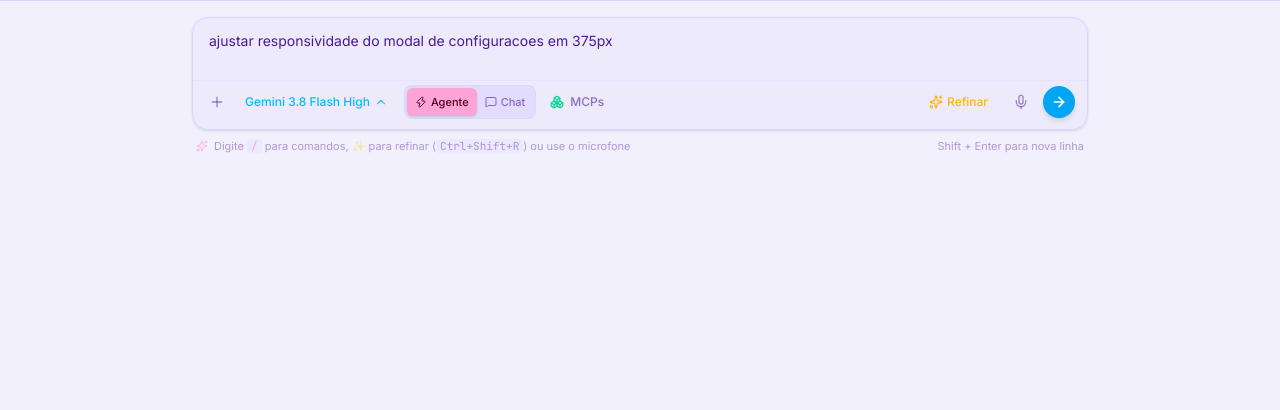
ChatInput Component - Prompt Refiner Sob Demanda (Issue #103) › deve suportar atalho Ctrl+Shift+R, Gerar de novo apenas por clique e Descartar com Esc
The width and height of the screenshot is (1280, 410).
Press R in the text box with test id "chat-textarea", box [193,18,1087,80]
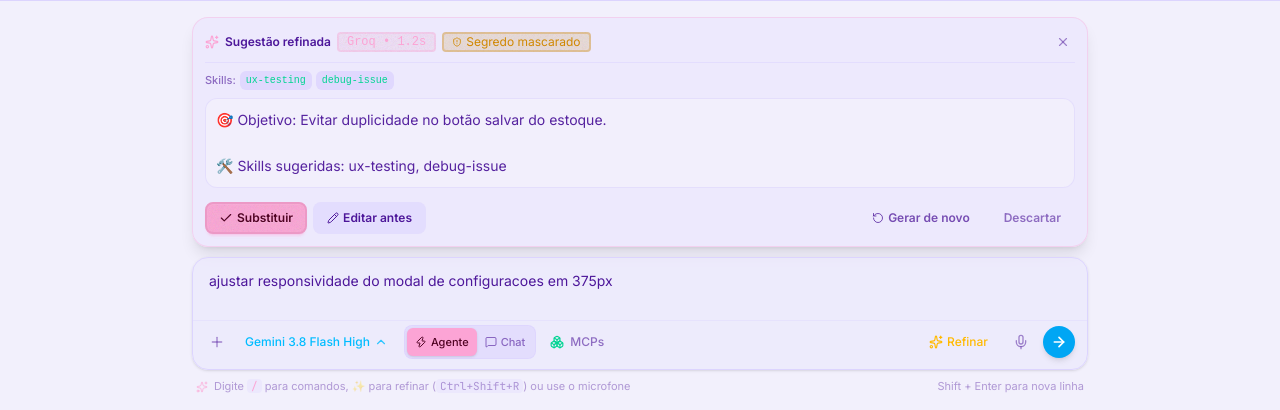
Expected: the element with test id "refine-suggestion-card" is shown, [192,17,1088,247]
// Gerar de novo dispara 2ª chamada somente no clique
Click the button with test id "refine-regenerate-btn": x=921, y=218 [858,202,984,234]
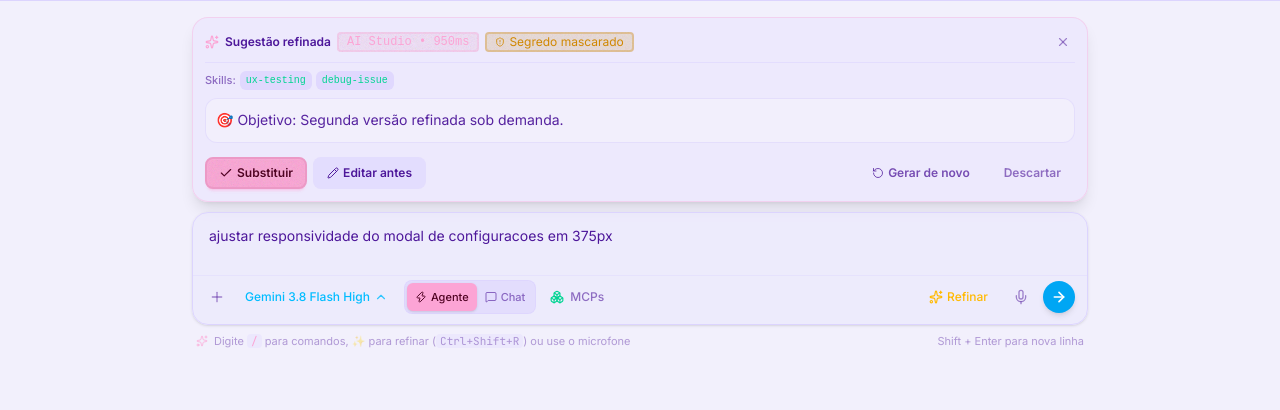
Expected: the text with test id "refine-provider-badge" reads "AI Studio • 950ms", [337,32,479,52]
// Esc fecha o card sem alterar o rascunho original
Press Escape
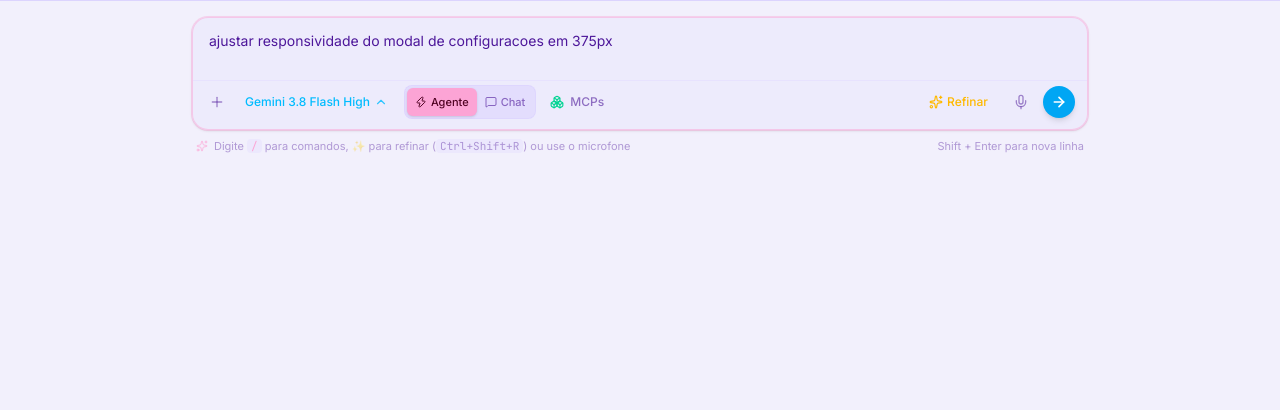
Expected: the text box with test id "chat-textarea" holds "ajustar responsividade do modal de configuracoes em 375px", [193,18,1087,80]
Expected: the element with test id "refine-suggestion-card" is gone
